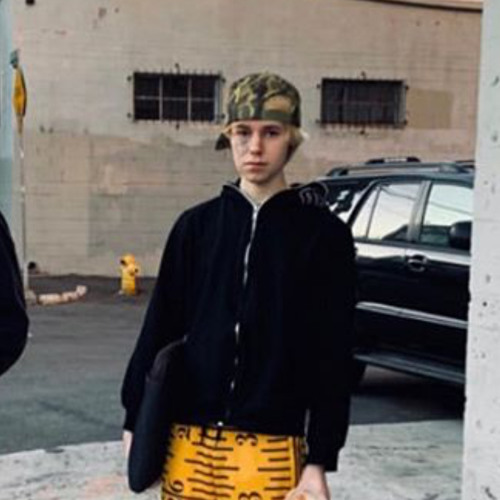BOY: (228, 119, 288, 179)
